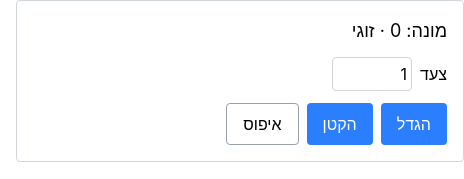
Scenario: incrementing updates the count and the derived parity
This screenshot has width=464, height=179.
Check: the text "מונה: 0 · זוגי" is shown, box [352,20,447,41]
Click the button "הגדל" at (414, 124), box [381,103,447,145]
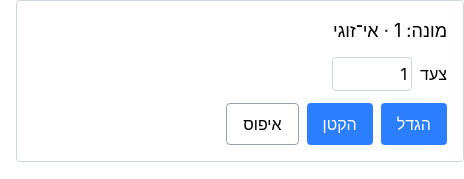
Check: the text "מונה: 1 · אי־זוגי" is shown, box [333,20,447,41]
